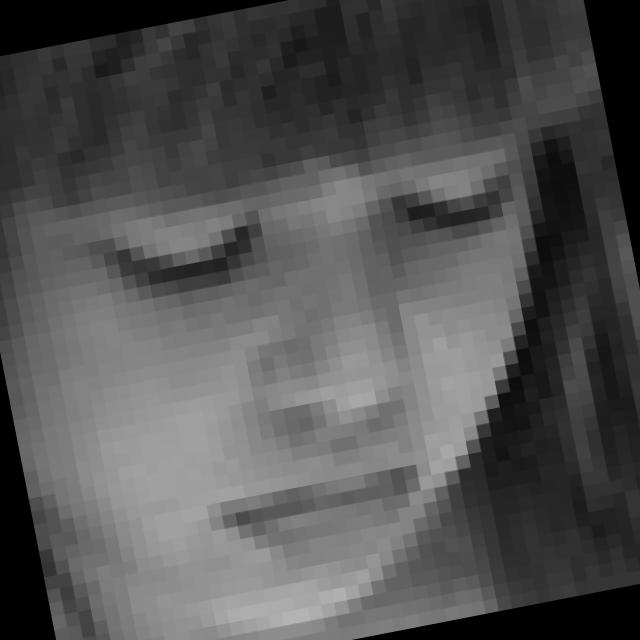sad: (73, 118, 594, 604)
